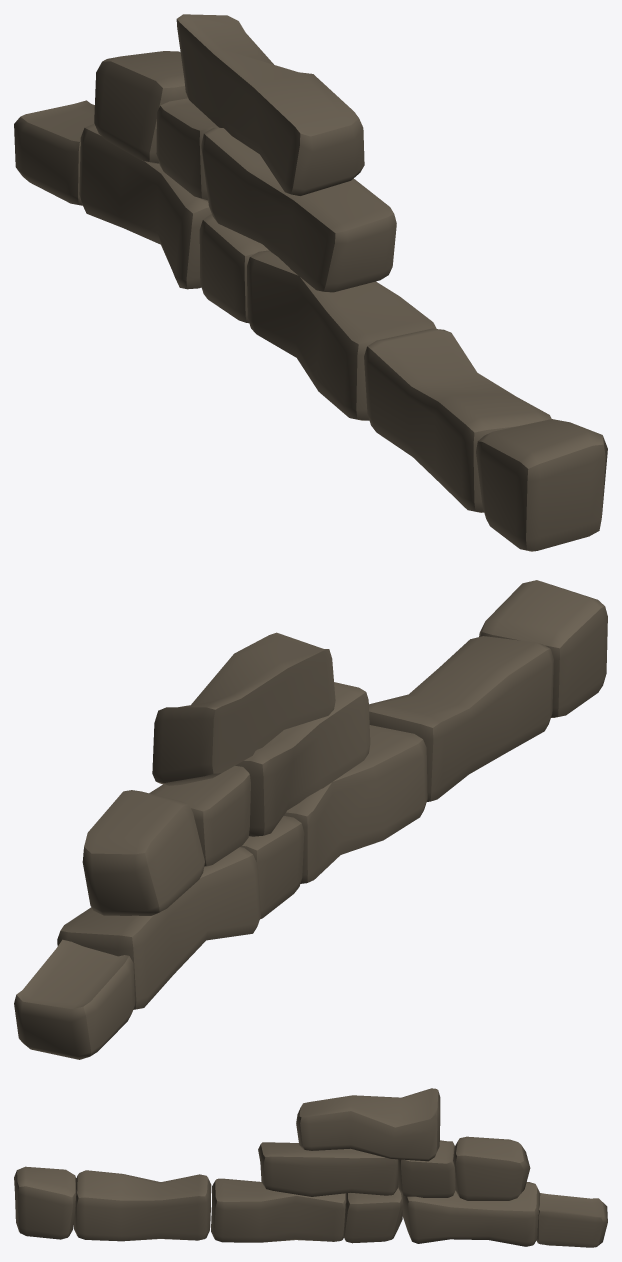
File: Destroyed Wall 2.fbx
3 renders of one model, top to bottom at view 1: azimuth 30°, elevation 25°; view 2: azimuth 150°, elevation 25°; view 3: azimuth 270°, elevation 25°, orthographic. The views are drawn at different scales.
Visible parts, largest first — view 1: polySurface1575; view 2: polySurface1575; view 3: polySurface1575.
Part boxes in pixels (x1,y1,x2,y2): polySurface1575: (14, 14, 607, 551); polySurface1575: (14, 580, 607, 1059); polySurface1575: (14, 1088, 607, 1247).
Bounding box in the file's own units: 2.93 × 6.35 × 23.15.
